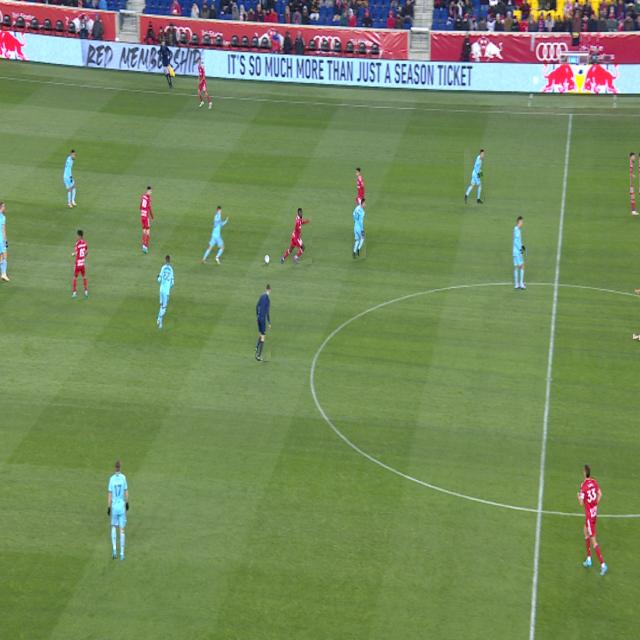football: (264, 255, 270, 264)
player: (577, 464, 607, 576), (108, 460, 129, 562), (281, 208, 312, 264), (202, 206, 229, 265), (157, 256, 174, 329), (72, 230, 88, 298), (465, 149, 484, 204), (513, 216, 526, 290), (140, 186, 154, 254), (63, 150, 77, 208), (0, 202, 10, 282), (198, 57, 213, 110), (353, 199, 366, 259), (630, 152, 640, 216), (356, 168, 364, 206), (634, 333, 639, 340), (635, 289, 640, 294)
referee: (255, 284, 271, 361)
